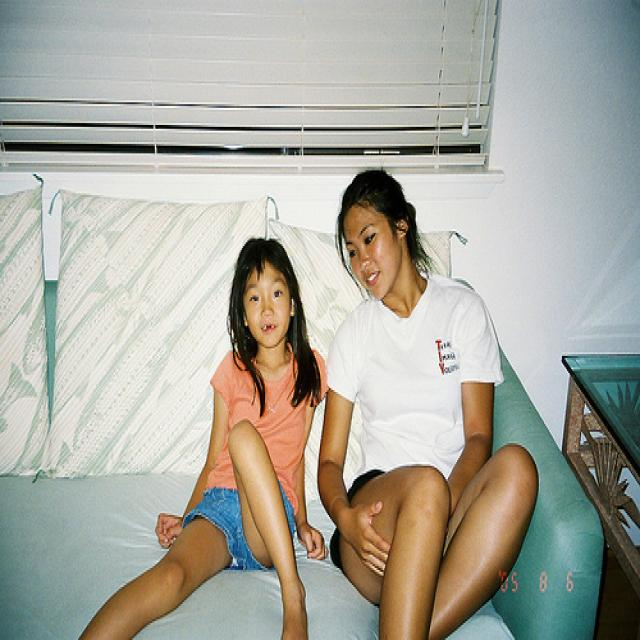person: (317, 170, 539, 639), (79, 238, 330, 639)
sofa: (1, 187, 603, 639)
